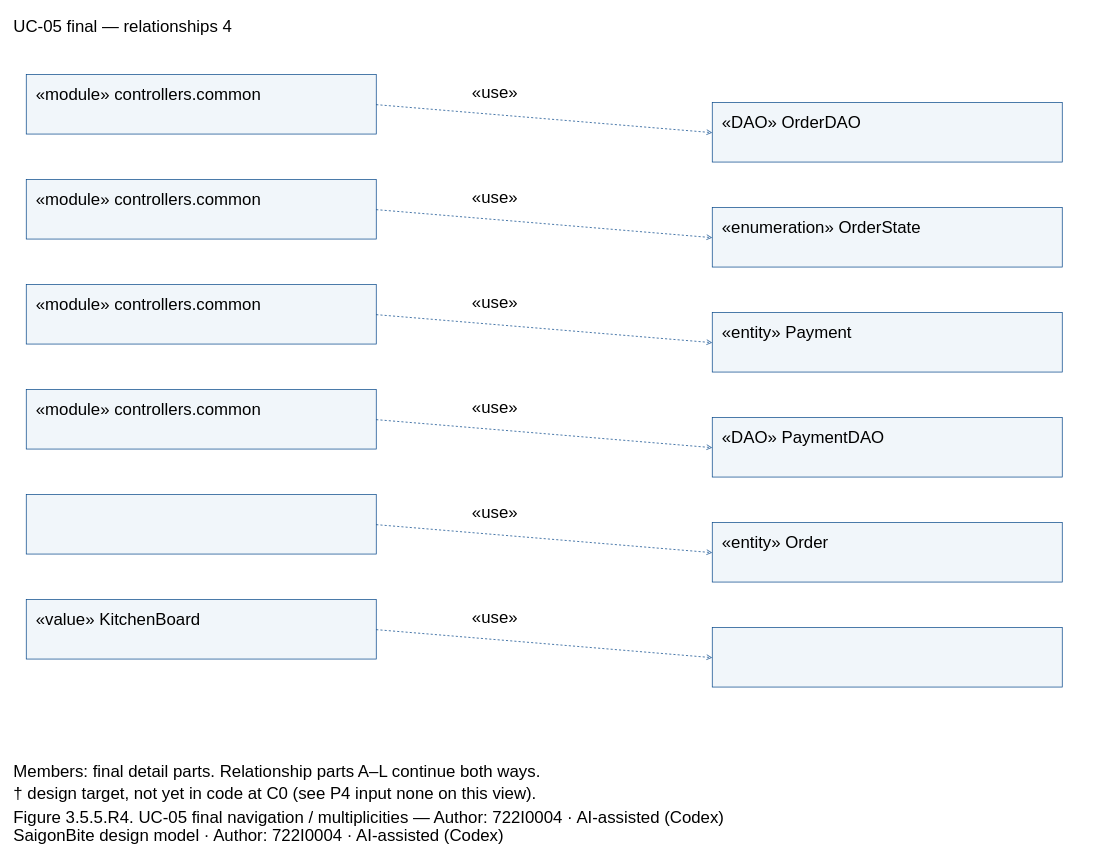
This 1095x858 diagram has some shape labels left out. The shapes that lost their labels are listed below. From the top down, each one's centre as x and y in pixels, then its label:
At (201,524): "«value» BoardEntry".
At (887,657): "«entity» Hub".
